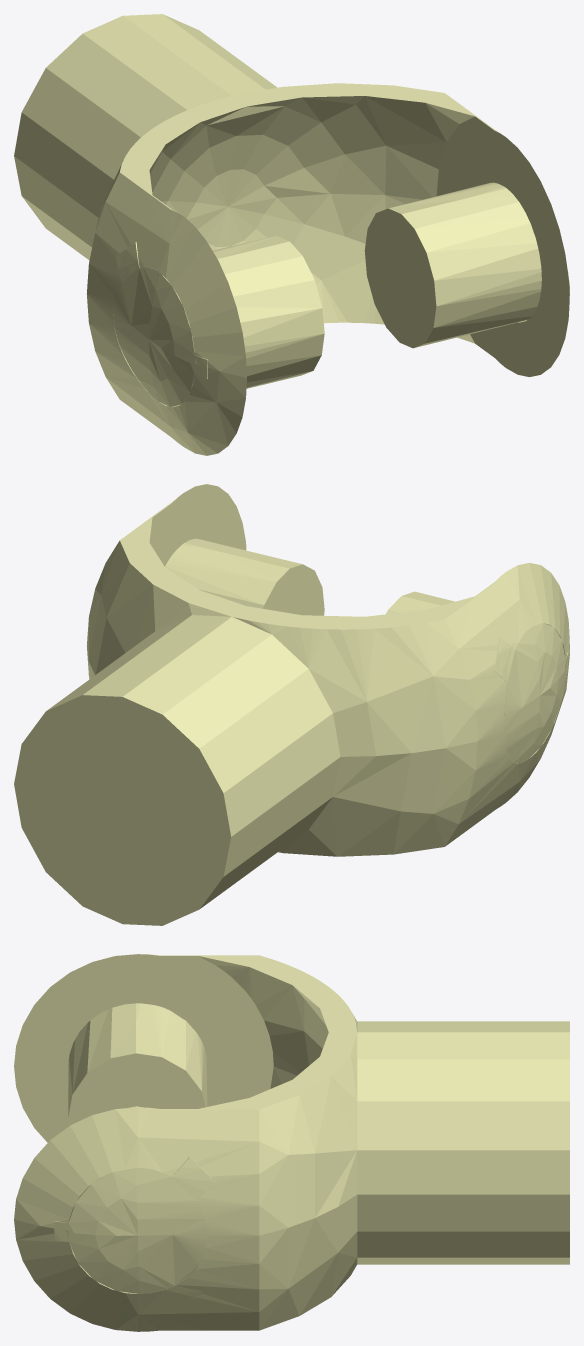
The model's file is LARM_HUMERUS_DUMMY2_LINK_mesh.dae.
3 renders of one model, top to bottom at view 1: azimuth 30°, elevation 25°; view 2: azimuth 150°, elevation 25°; view 3: azimuth 270°, elevation 25°, orthographic. The views are drawn at different scales.
Visible parts, largest first — view 1: LARM_HUMERUS_DUMMY2_LINK (×3); view 2: LARM_HUMERUS_DUMMY2_LINK (×3); view 3: LARM_HUMERUS_DUMMY2_LINK (×3).
Part boxes in pixels (x1,y1,x2,y2): LARM_HUMERUS_DUMMY2_LINK (×3): [14, 14, 569, 455]; LARM_HUMERUS_DUMMY2_LINK (×3): [14, 484, 569, 925]; LARM_HUMERUS_DUMMY2_LINK (×3): [14, 954, 569, 1331].
Size of the model in its own units: 0.063 by 0.0356 by 0.0798.
